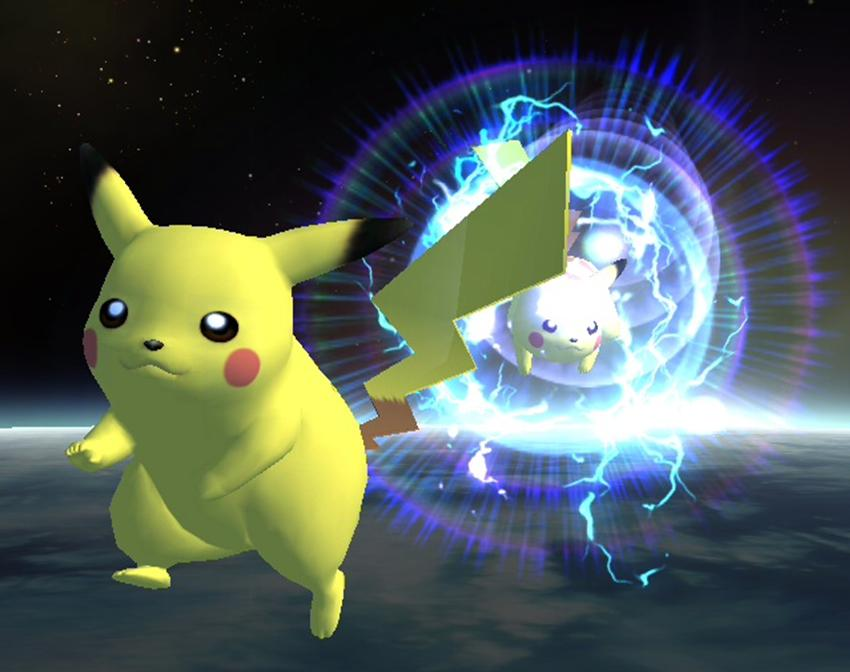pikachu: (57, 91, 588, 641), (494, 211, 646, 383)
